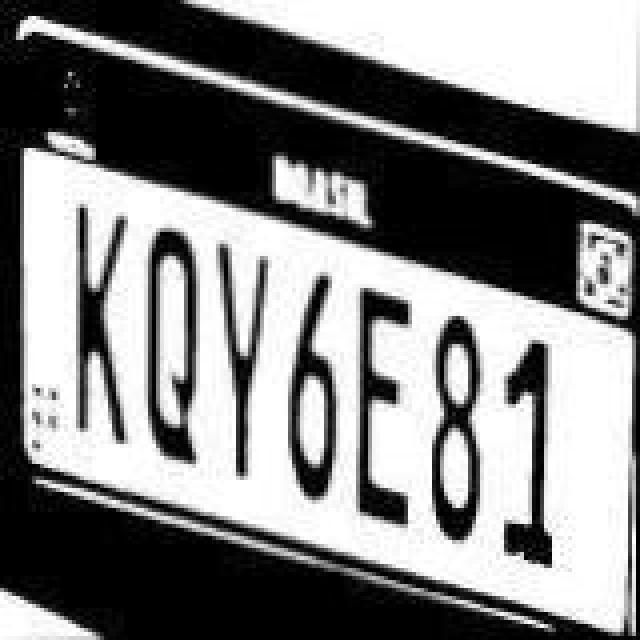1: (498, 338, 570, 582)
6: (290, 268, 346, 512)
8: (428, 308, 496, 560)
E: (354, 286, 426, 534)
K: (58, 196, 138, 468)
Q: (136, 214, 212, 478)
Y: (204, 236, 288, 496)
